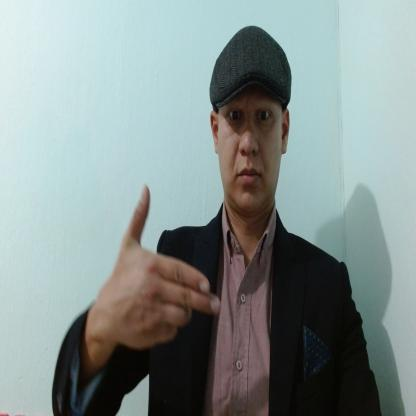H: (108, 180, 221, 350)
